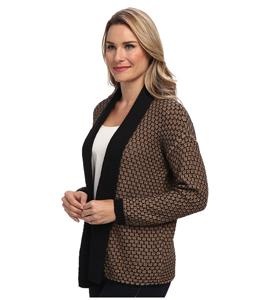C_cardigan sweater: (64, 92, 217, 289)
